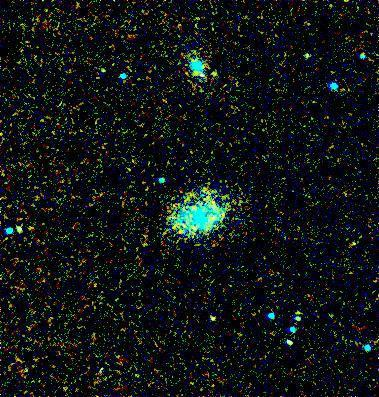star: (198, 301, 228, 331)
